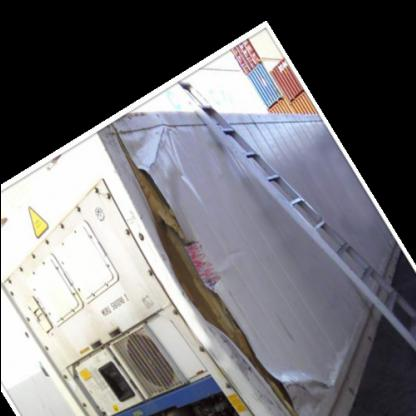Damage: (105, 124, 307, 408)
